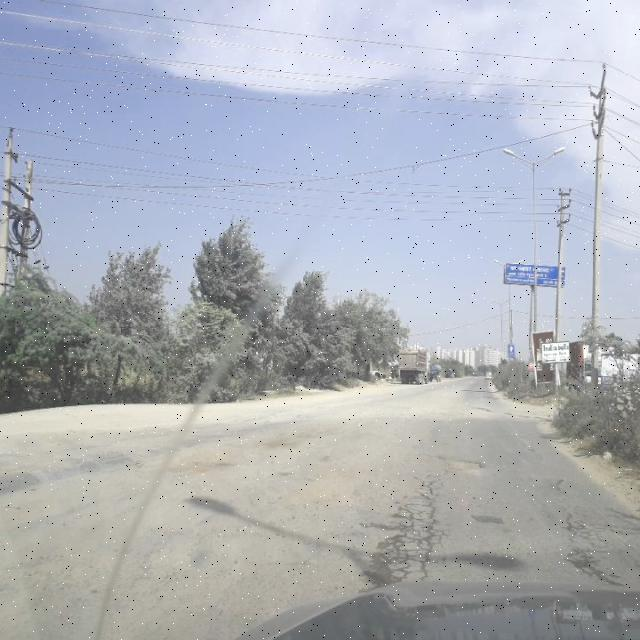D20: (374, 466, 454, 592), (559, 506, 637, 585)
D40: (0, 533, 209, 616), (293, 466, 367, 522), (162, 450, 242, 492), (430, 448, 487, 478)
